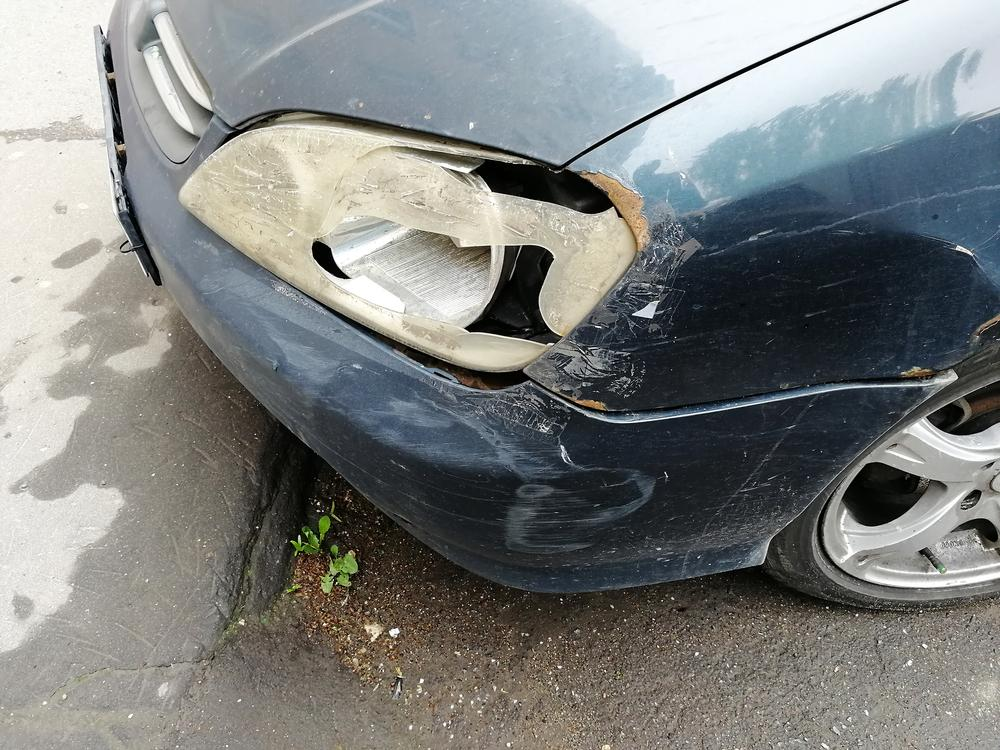dent: (663, 228, 995, 399)
lamp broken: (176, 123, 640, 374)
scratch: (196, 248, 657, 558), (531, 204, 699, 398)
